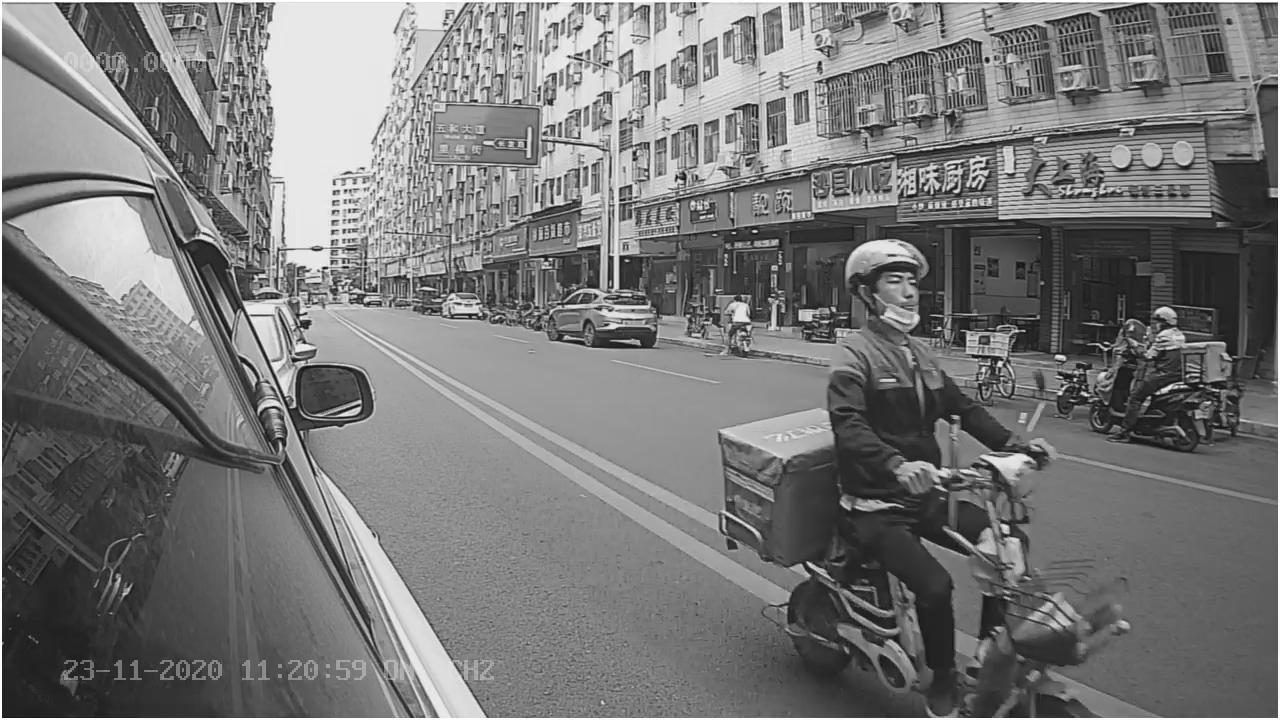person: (817, 233, 1017, 439)
